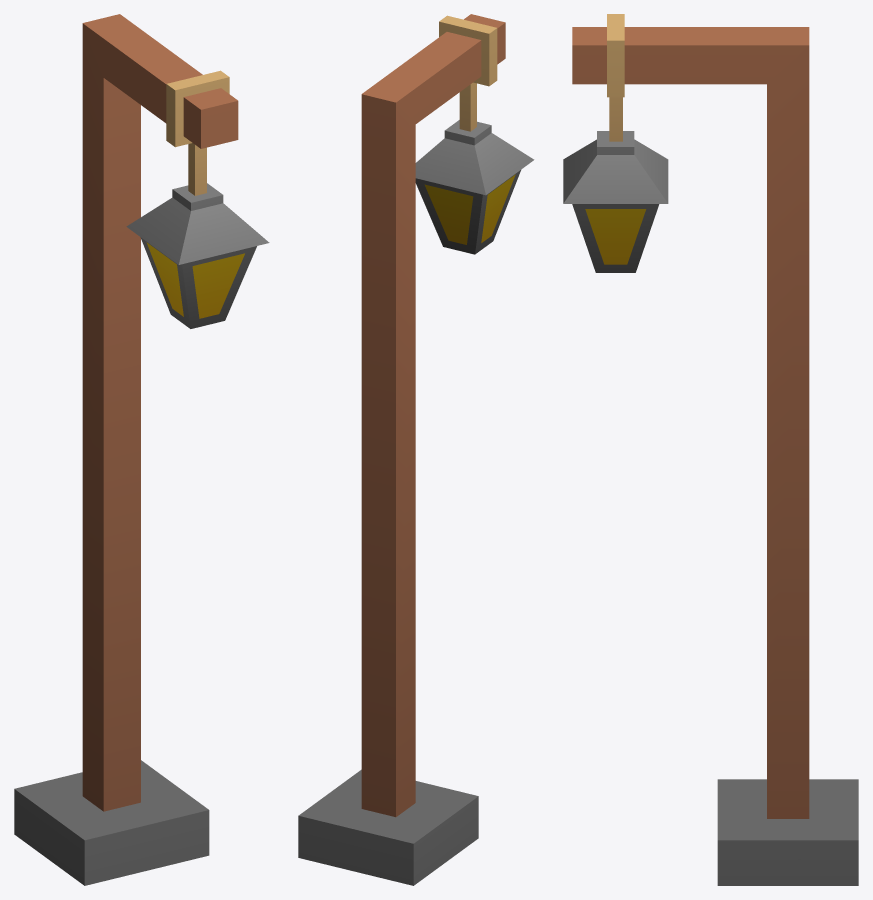
File: lamppost 2.fbx
3 renders of one model, left to right at view 1: azimuth 30°, elevation 25°; view 2: azimuth 150°, elevation 25°; view 3: azimuth 270°, elevation 25°, orthographic. The views are drawn at different scales.
Parts seen in each view (by area): view 1: lamppost 2; view 2: lamppost 2; view 3: lamppost 2.
Part boxes in pixels (bbox=[...]): lamppost 2: bbox=[14, 14, 269, 885]; lamppost 2: bbox=[298, 14, 534, 885]; lamppost 2: bbox=[563, 14, 858, 885].
Bounding box in the file's own units: 41.19 × 261 × 84.54.
